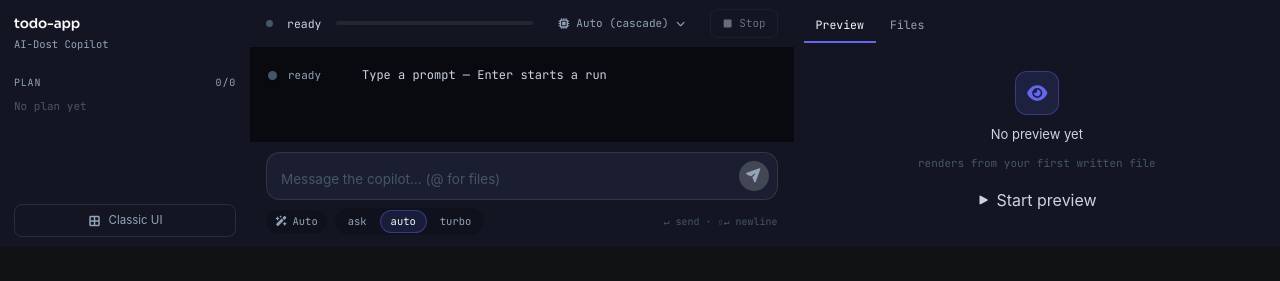
it: CopilotAurora (P11 A2 — real run wiring) › failed start surfaces the honest reason in the empty state (not just spine)
Click the button with test id "preview-start" at (1037, 200), box [962,181,1112,219]
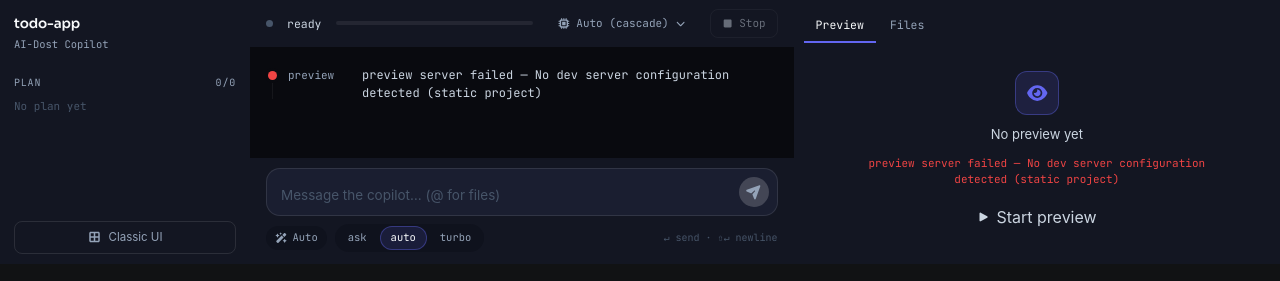
Expected: the button with test id "preview-start" is shown, [962,198,1112,236]
Expected: the text "preview server failed — No dev server configuration detected" below "No preview yet" is shown, [867,155,1207,188]
